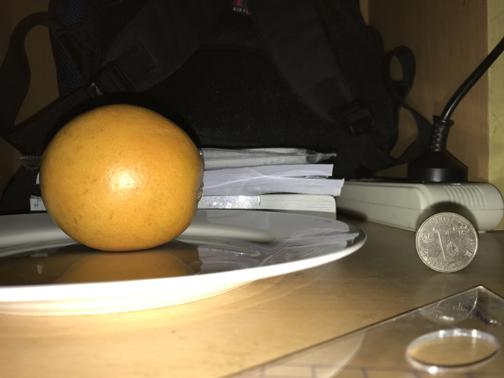coin: (413, 213, 478, 272)
orange: (41, 105, 206, 252)
